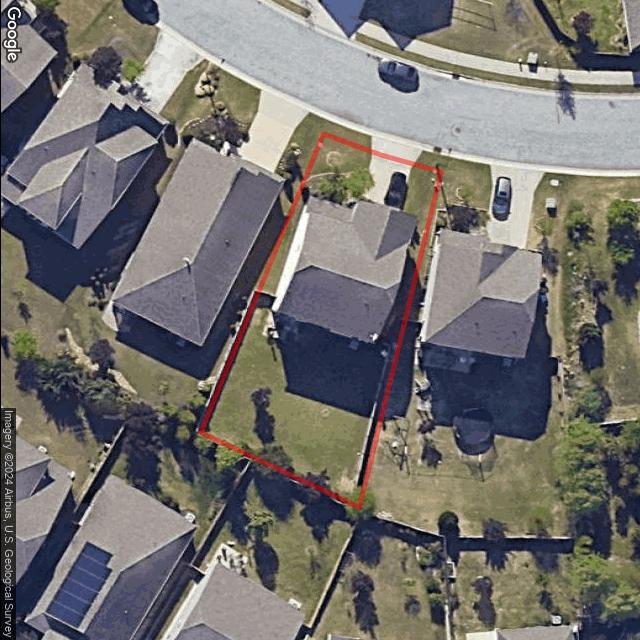Driveway: (361, 152, 412, 212)
Extra-Driveway: (370, 136, 422, 165)
Extra-Lawn: (321, 119, 370, 152), (412, 150, 446, 172)
House: (269, 194, 416, 347)
Lawn: (200, 132, 441, 508)
Other: (300, 169, 368, 209), (258, 312, 297, 341)
